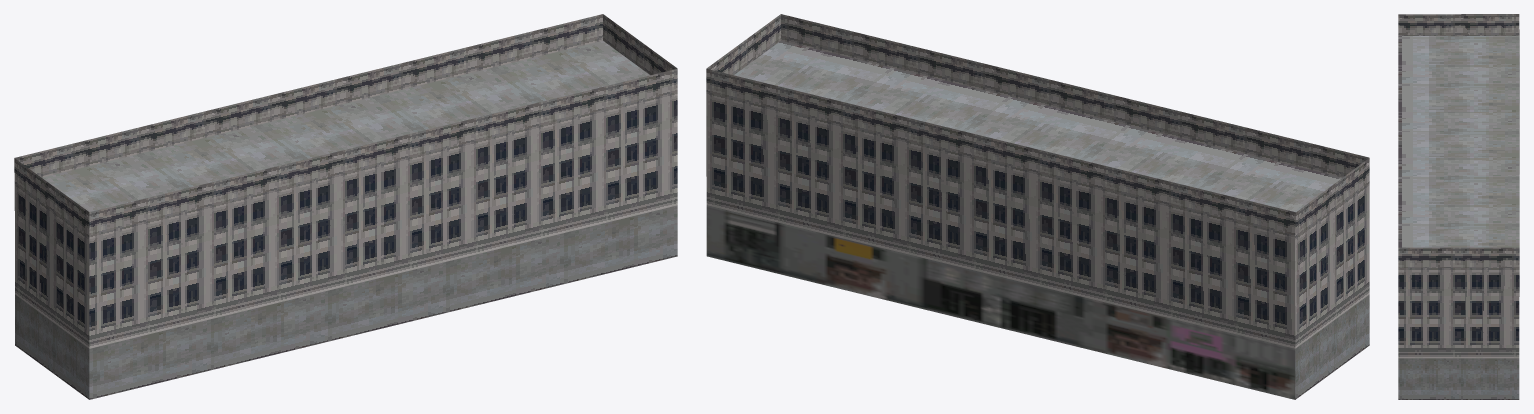
Rendered from lodpacific2_law.obj.
3 views of the same model, side by side, from view 1: azimuth 30°, elevation 25°; view 2: azimuth 150°, elevation 25°; view 3: azimuth 270°, elevation 25° (orthographic). The views are drawn at different scales.
Visible parts, largest first — view 1: LODpacific2_law; view 2: LODpacific2_law; view 3: LODpacific2_law.
Part boxes in pixels (x1,y1,x2,y2): LODpacific2_law: [14, 14, 677, 399]; LODpacific2_law: [706, 14, 1369, 399]; LODpacific2_law: [1398, 14, 1519, 399].
Size of the model in its own units: 60 by 18.27 by 13.17.
Materials: 3 (3 with a texture image).
